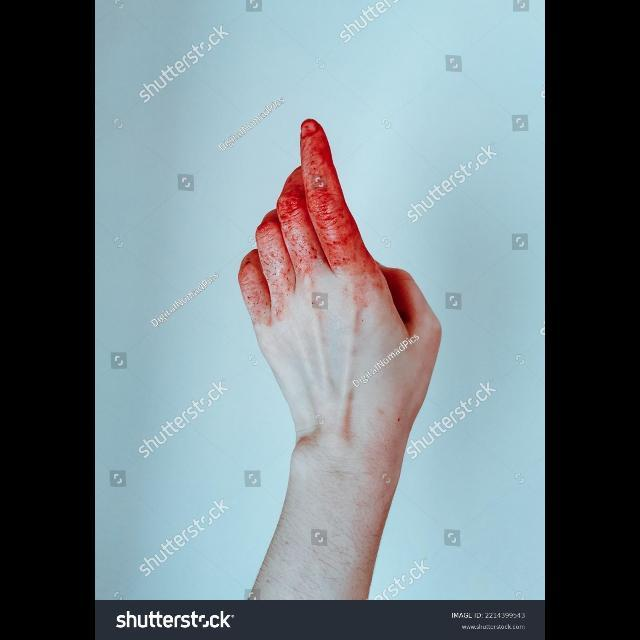blood: (239, 119, 383, 325)
